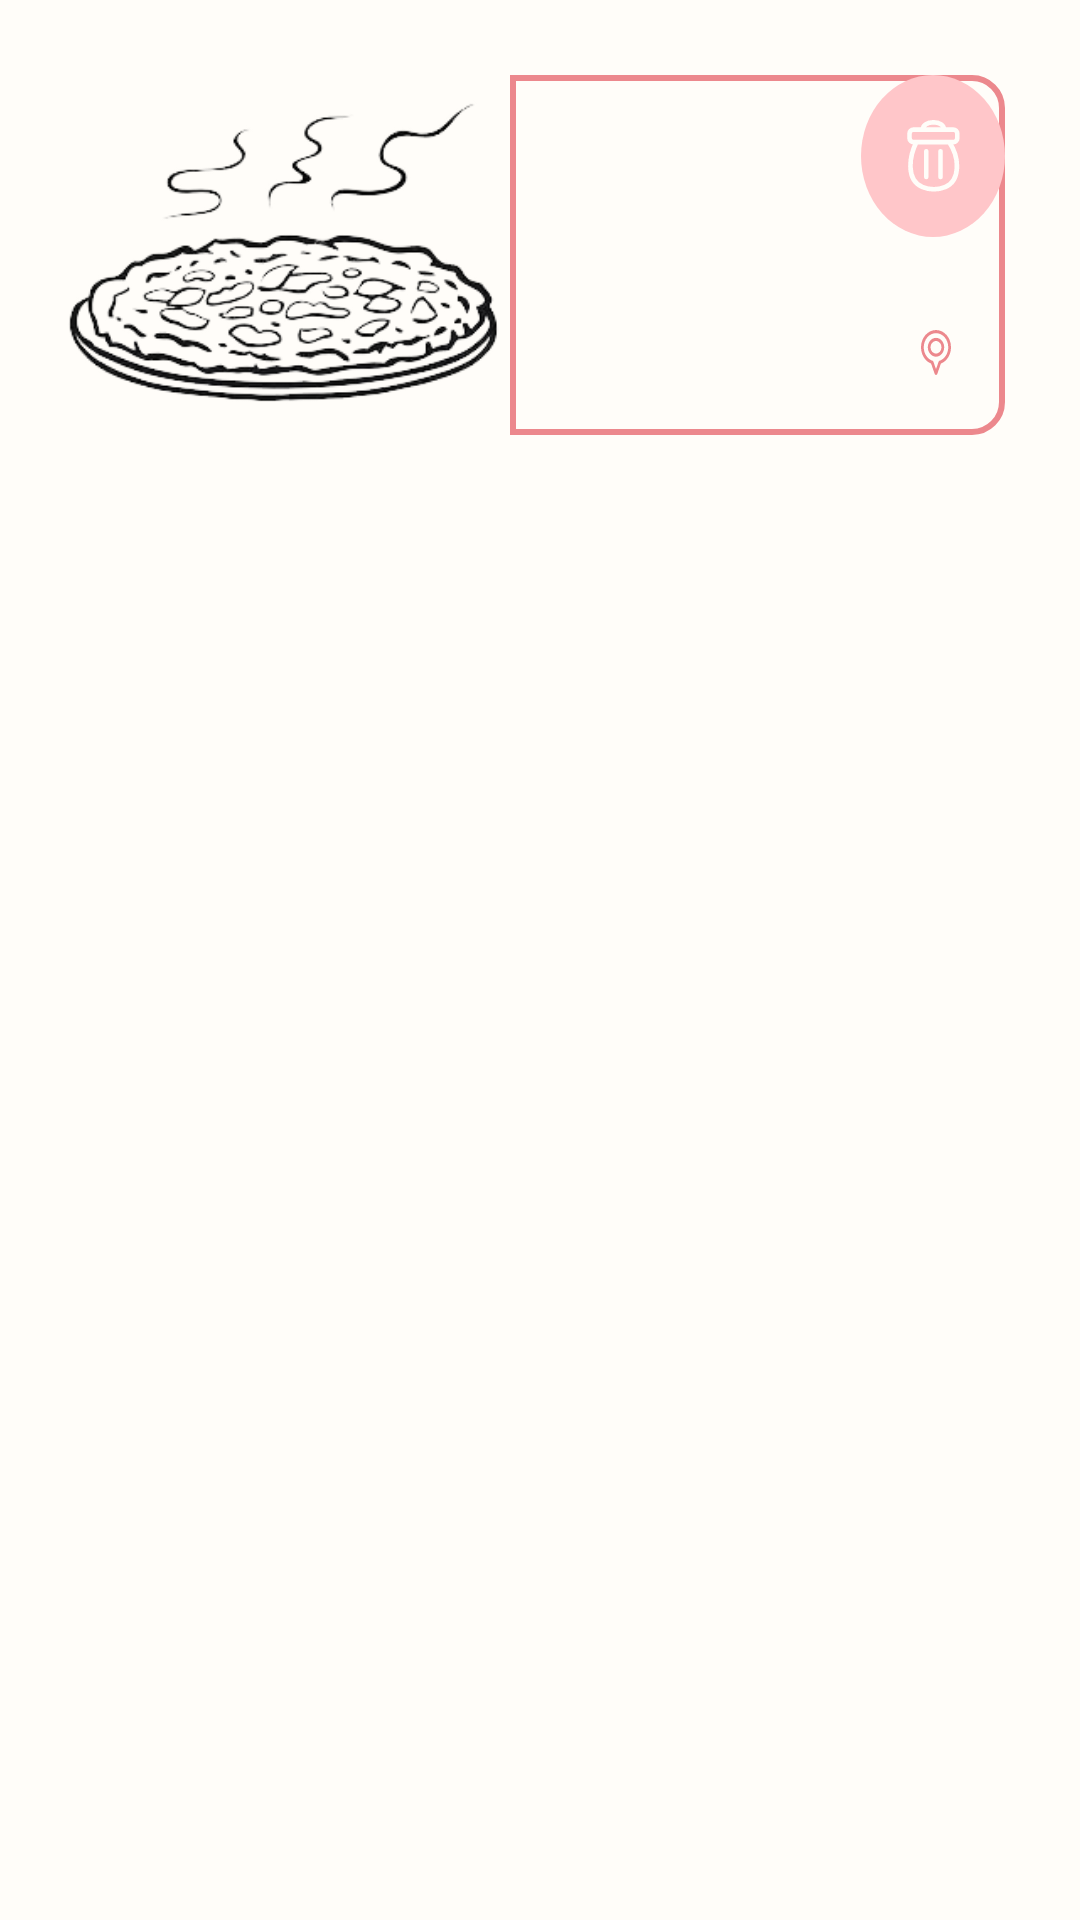

Where to tap for icons on this 1080 x 1920 app screen, as (x=x, y=y):
area: (x=936, y=352)
delete: (x=933, y=156)
